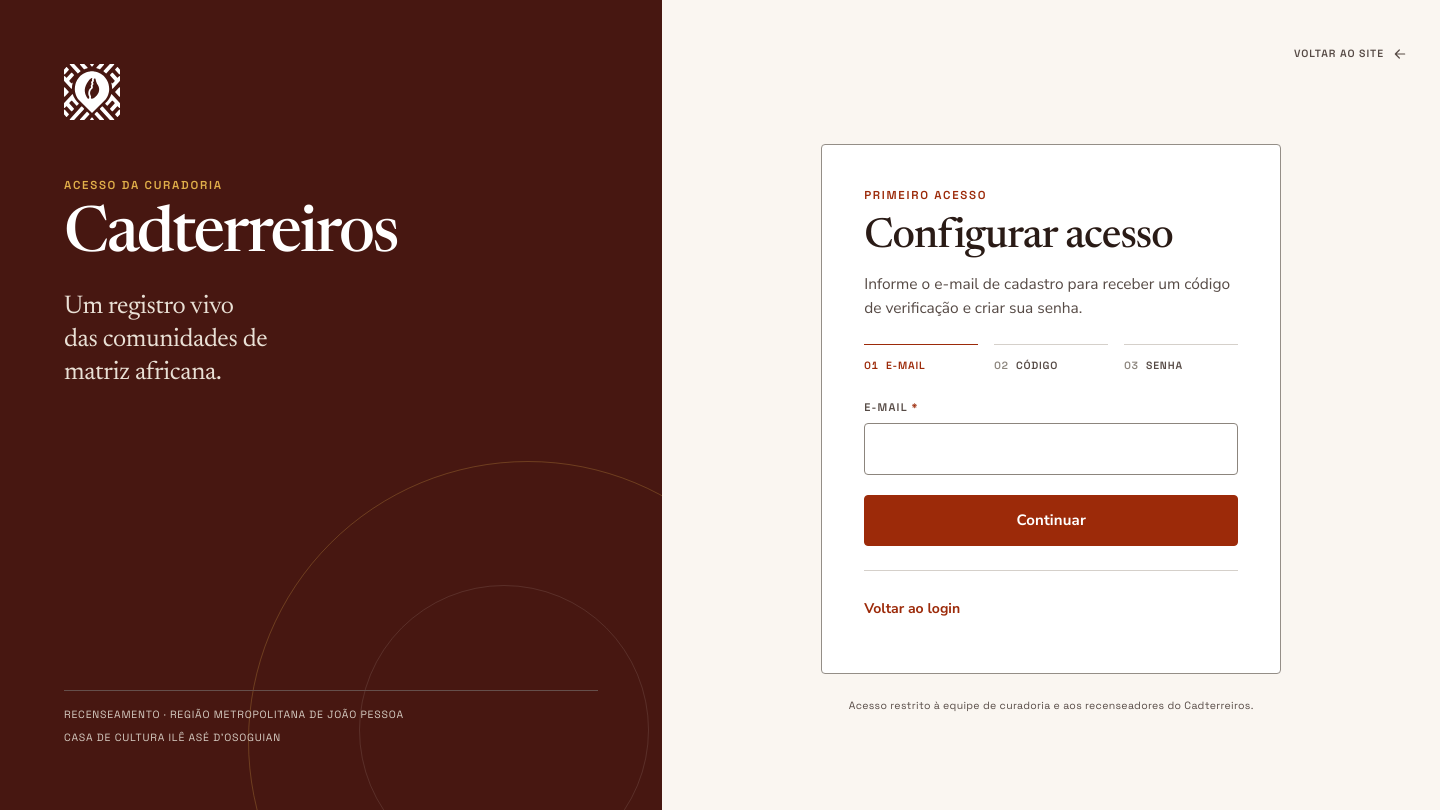
it: FirstAccess › exibe erro genérico quando a API falha
In the field labelled "E-mail *": (1051, 449) [864,423,1238,475], type "curadoria@cciao.org"
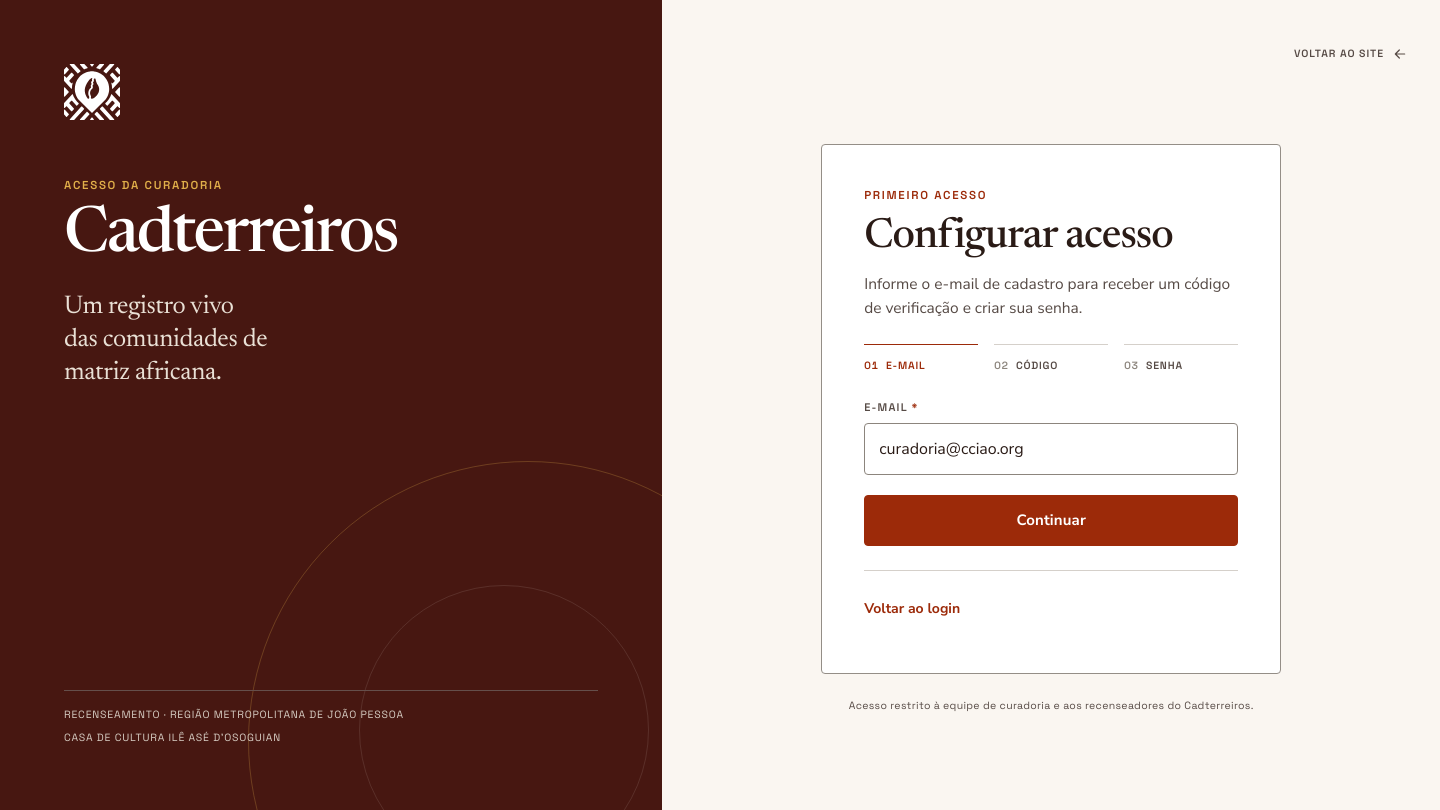
Click the button "Continuar": (1051, 521) [864,495,1238,546]
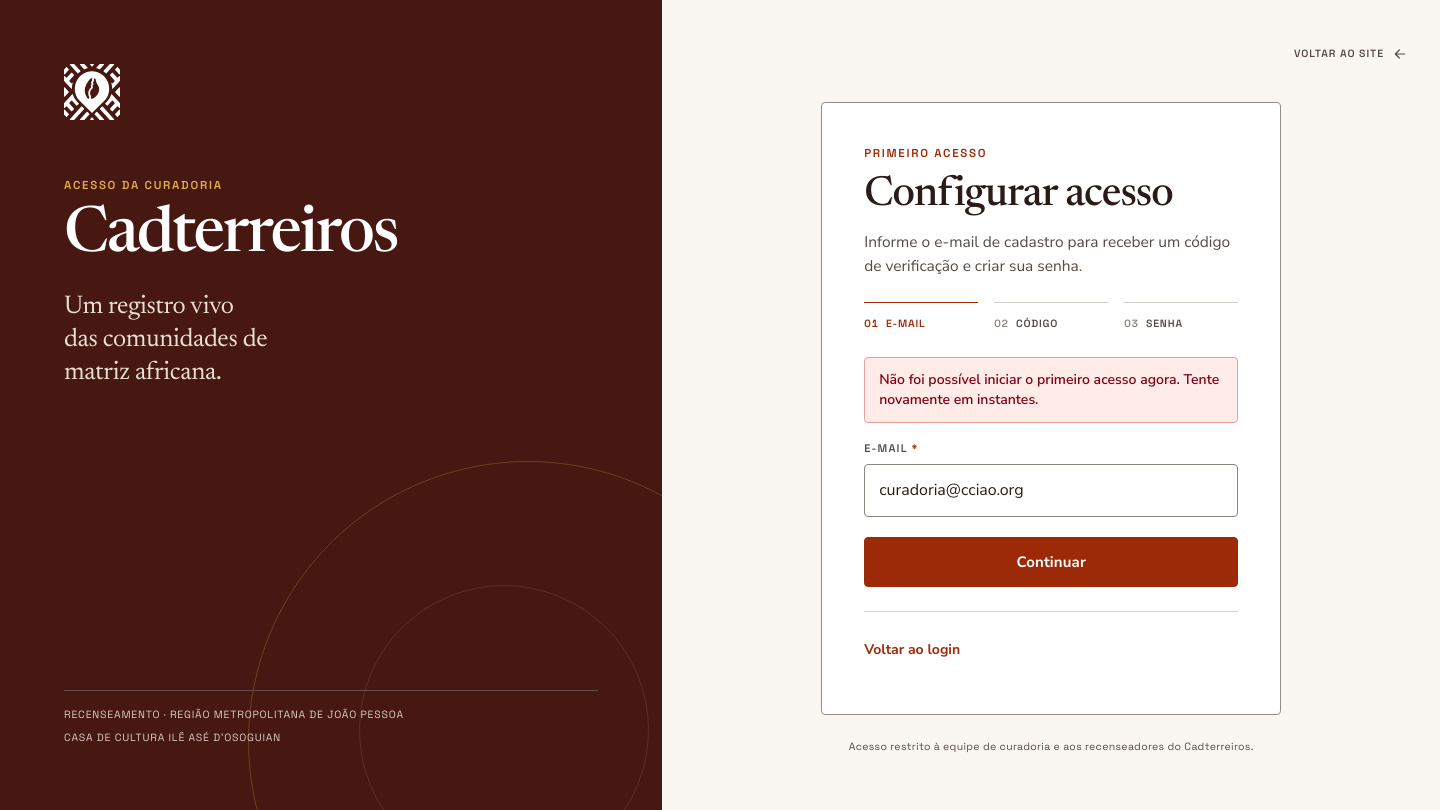
Expected: the message shows "Não foi possível iniciar o primeiro acesso", [879,370,1219,409]
